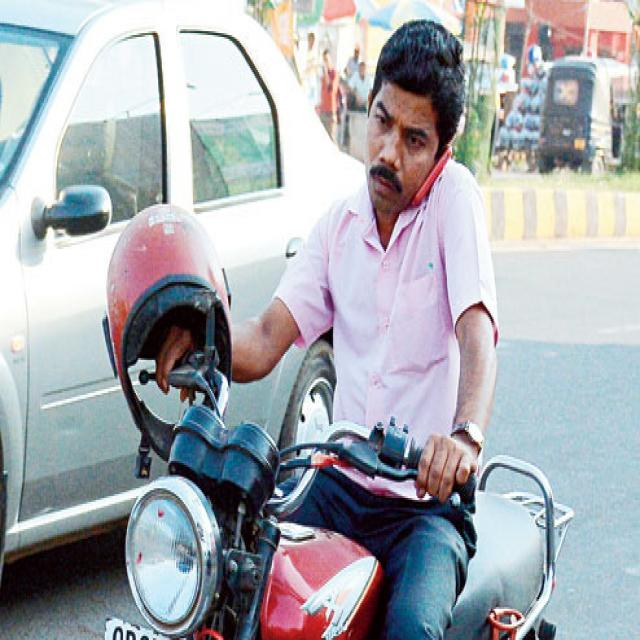Not Wearing Helmet: (323, 0, 472, 214)
Usage Of Phone While Riding: (286, 21, 511, 577)
